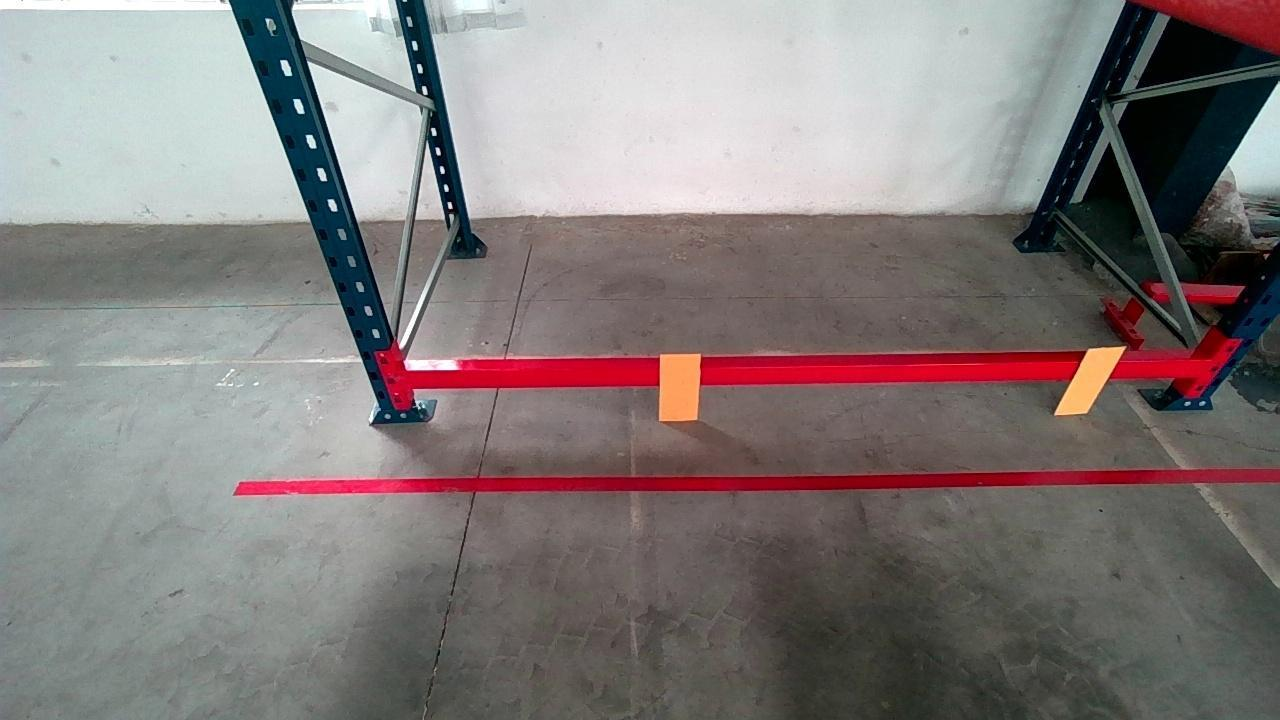h_rack: (407, 345, 1195, 395)
orange_strip: (1055, 346, 1128, 414), (659, 353, 701, 420)
red_line: (245, 461, 1272, 502)
